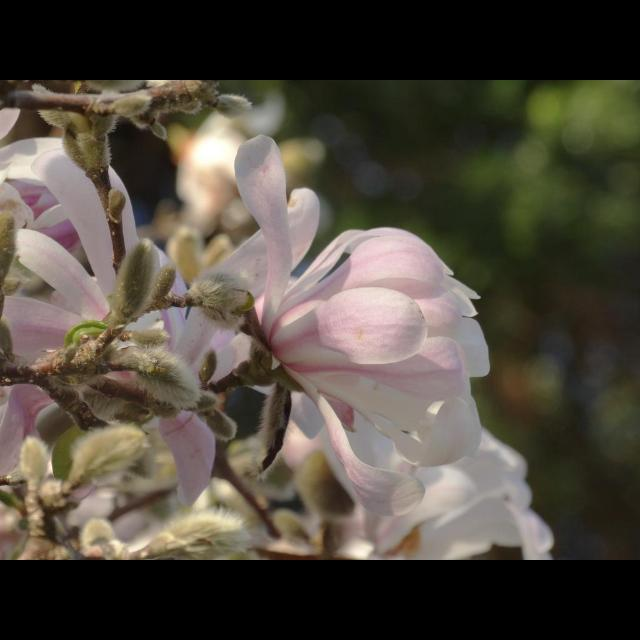Flower: (1, 93, 562, 559)
